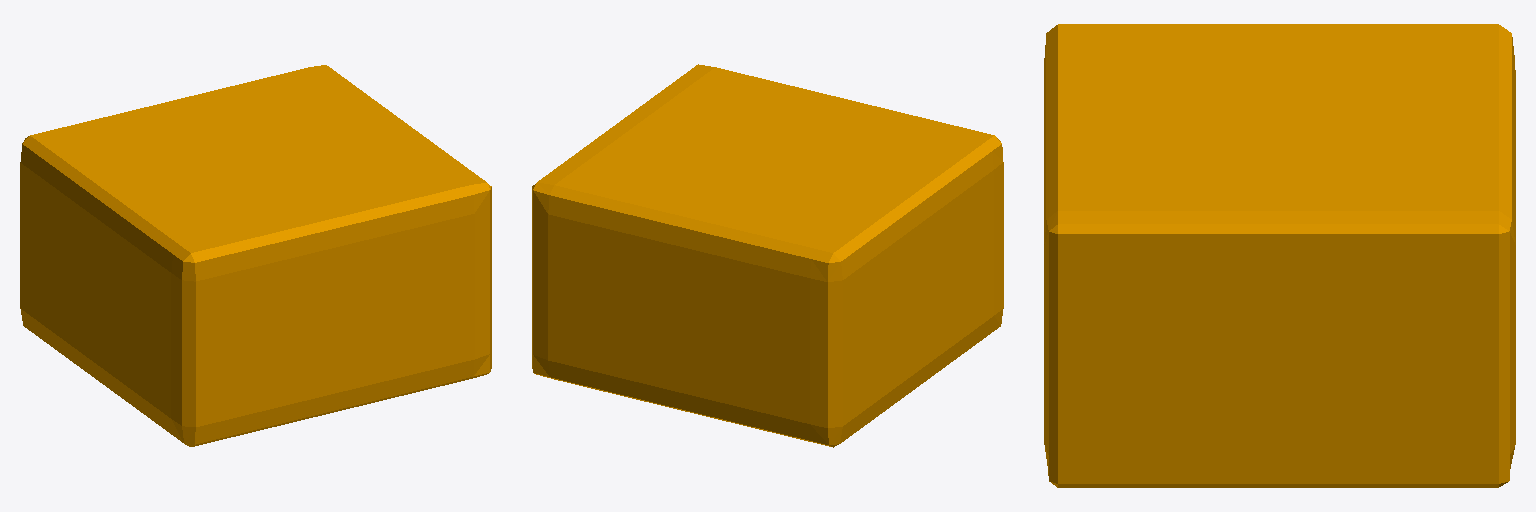
The robot description file, URDF, robot "cylinder_box_1":
<?xml version="1.0" encoding="utf-8"?>  <robot name="cylinder_box_1">   <link name="cylinder_box_1">     <visual>       <geometry>         <mesh filename="../meshes/box/box_1.stl" scale="1 1 1"/>       </geometry>     </visual>     <collision>       <geometry>         <mesh filename="../meshes/box/box_1.stl" scale="1 1 1"/>       </geometry>     </collision>     <inertial>        <origin         xyz="0 0 0"         rpy="0 0 0" />       <mass value="0.6698354218360366"/>       <origin rpy="0 0 0" xyz="0 0 0"/>       <inertia ixx="0.0008224225066712925" ixy="-1.9245146134837672e-07" ixz="-7.39802291787091e-08" iyy="0.0009580879470510843" iyz="-5.853289039422323e-07" izz="0.000806084731267785"/>     </inertial>   </link>  </robot>

--- Render facts (derived) ---
Views: 3 orthographic renders of the robot side by side, from view 1: azimuth 30°, elevation 25°; view 2: azimuth 150°, elevation 25°; view 3: azimuth 270°, elevation 25°.
Model cylinder_box_1 with 1 links and 0 joints (none), rooted at cylinder_box_1, posed all joints at 0.
Visible links, largest first — view 1: cylinder_box_1; view 2: cylinder_box_1; view 3: cylinder_box_1.
Boxes of the visible links, <box> form: cylinder_box_1: <box>20,65,491,446</box>; cylinder_box_1: <box>532,64,1003,447</box>; cylinder_box_1: <box>1044,24,1515,487</box>.
Size in the robot's own frame: 0.089 by 0.0854 by 0.0532 metres.
1 mesh visuals loaded from 1 distinct referenced files (1 binary STL).